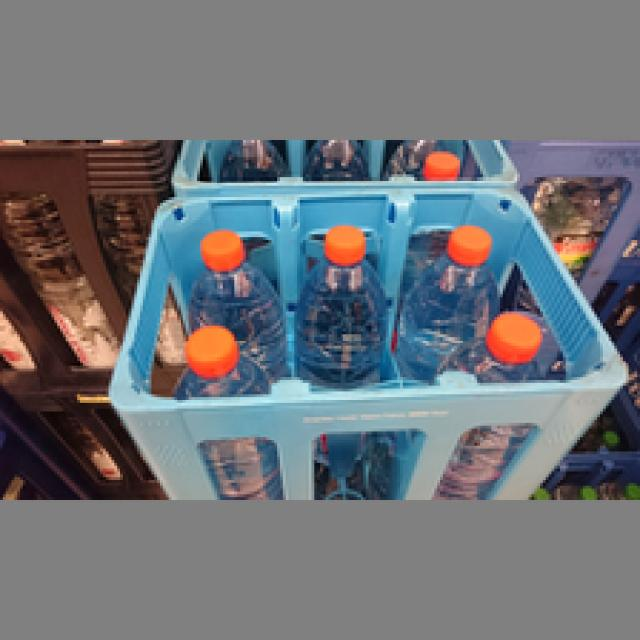groceries: (423, 312, 540, 492), (172, 328, 277, 492), (180, 220, 289, 366), (394, 215, 494, 372), (292, 220, 388, 383)
